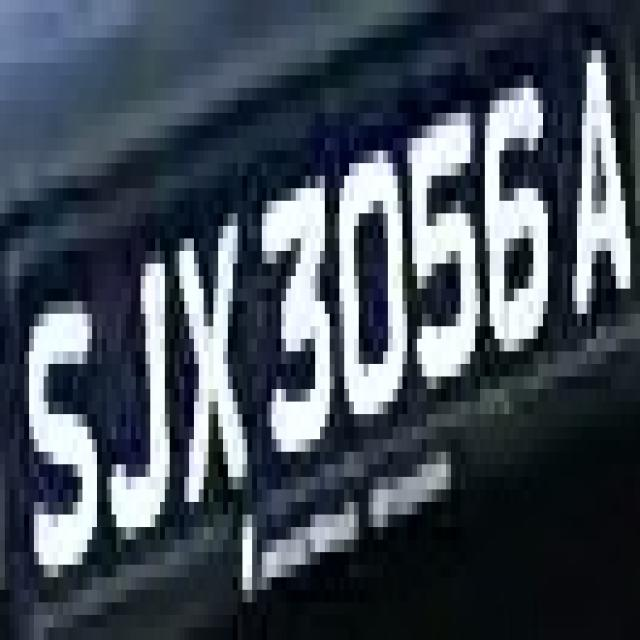0: (330, 125, 417, 452)
3: (242, 176, 330, 477)
5: (398, 75, 480, 402)
6: (465, 50, 553, 427)
A: (562, 0, 630, 402)
J: (97, 213, 189, 552)
S: (19, 238, 107, 602)
X: (160, 163, 247, 540)
